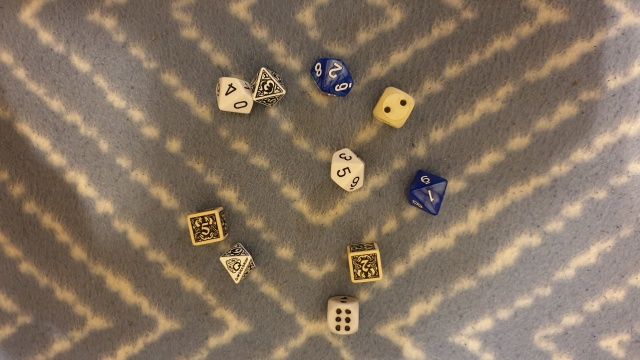d10-1: (406, 167, 449, 217)
d10-2: (307, 52, 354, 101)
d10-4: (210, 72, 254, 116)
d10-5: (326, 146, 369, 196)
d6-2: (369, 82, 417, 131)
d6-6: (323, 294, 360, 338)
d6p-2: (347, 242, 383, 285)
d6p-5: (185, 205, 231, 250)
d8p-3: (249, 65, 288, 112)
d8p-8: (216, 244, 257, 288)
